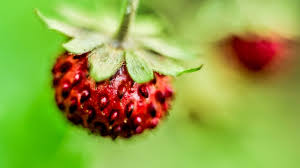ripe: (48, 37, 177, 145), (221, 22, 283, 78)
